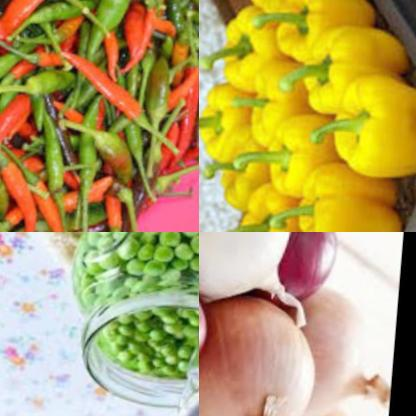bell pepper: (300, 16, 413, 118), (299, 155, 416, 232), (332, 69, 416, 175), (265, 108, 357, 197), (245, 54, 318, 145), (267, 0, 377, 57), (217, 3, 287, 87), (214, 123, 279, 204), (236, 176, 316, 232), (199, 76, 252, 158)
hot pepper: (0, 0, 199, 232)
onion: (199, 268, 325, 416), (292, 280, 388, 416), (199, 232, 309, 308), (268, 232, 348, 302), (199, 268, 224, 391)
peas: (67, 232, 199, 376)
